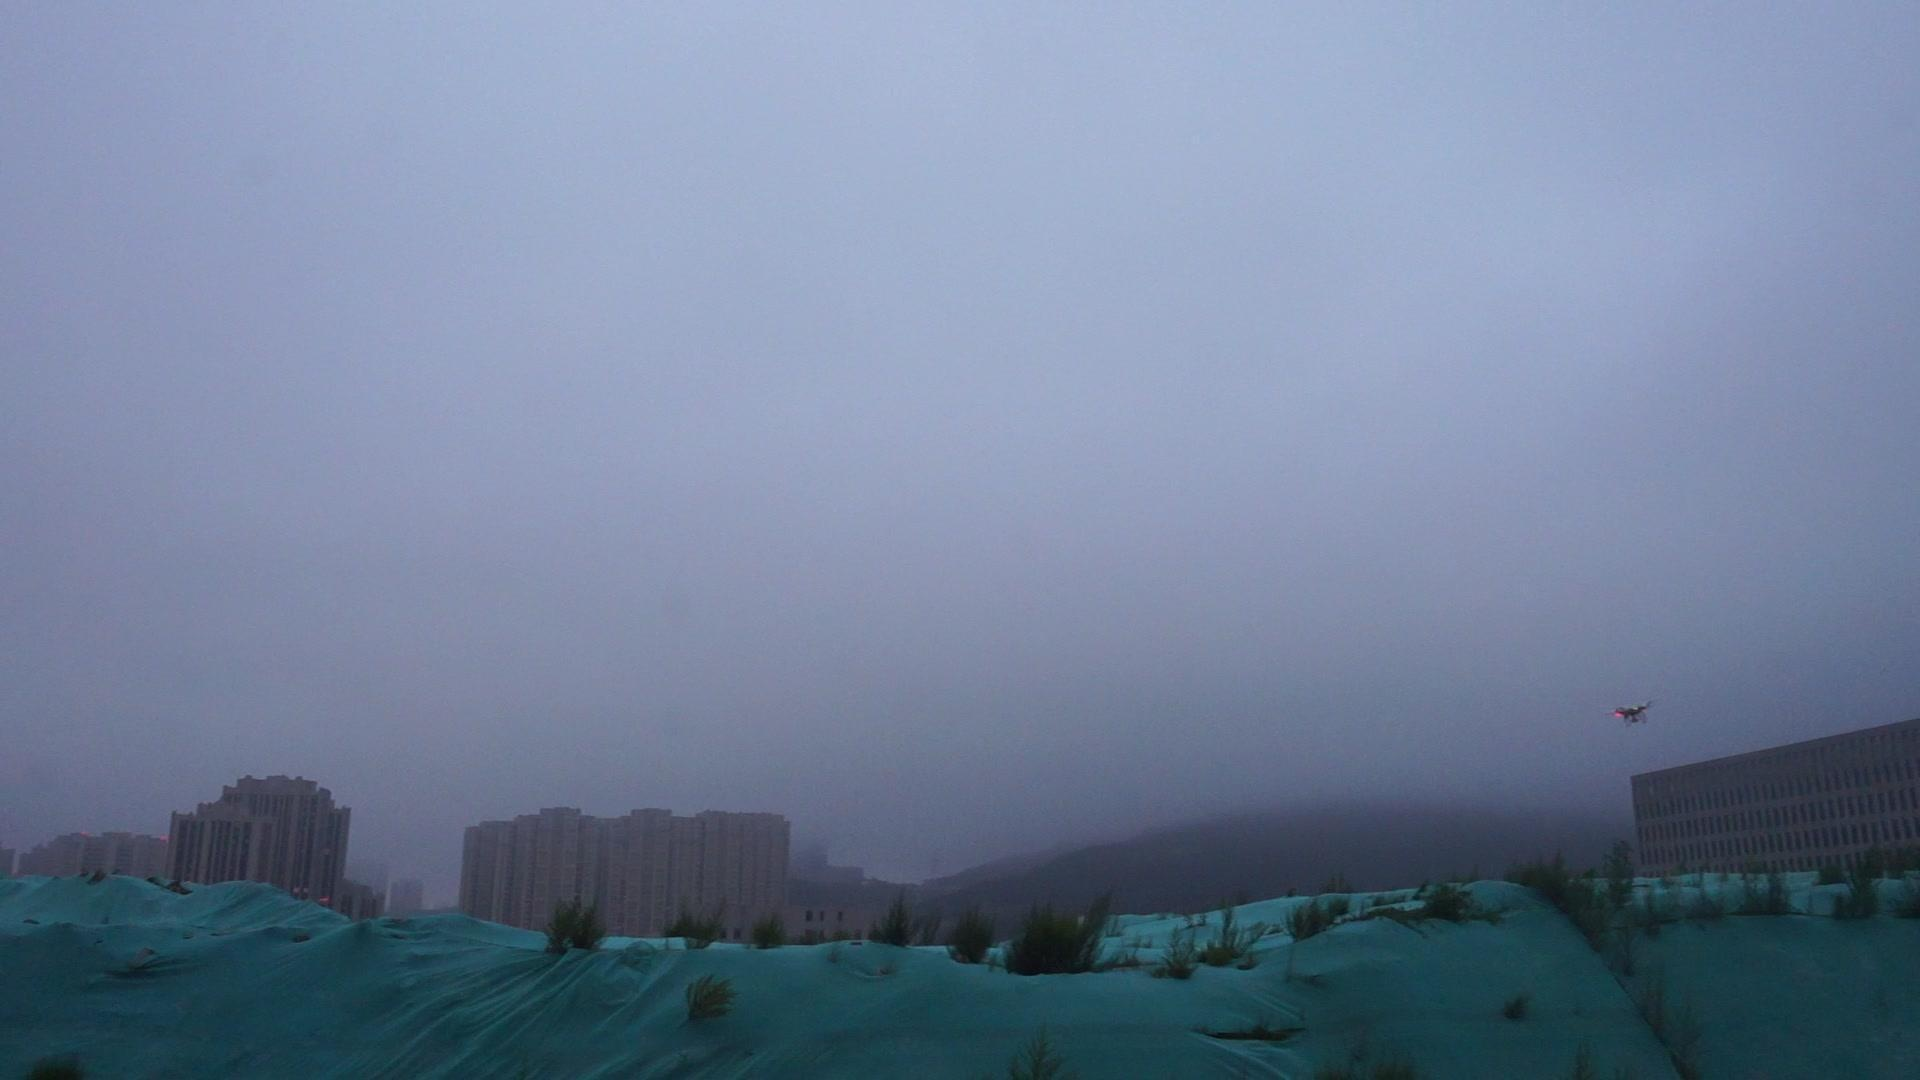UAV: (1607, 702, 1656, 728)
